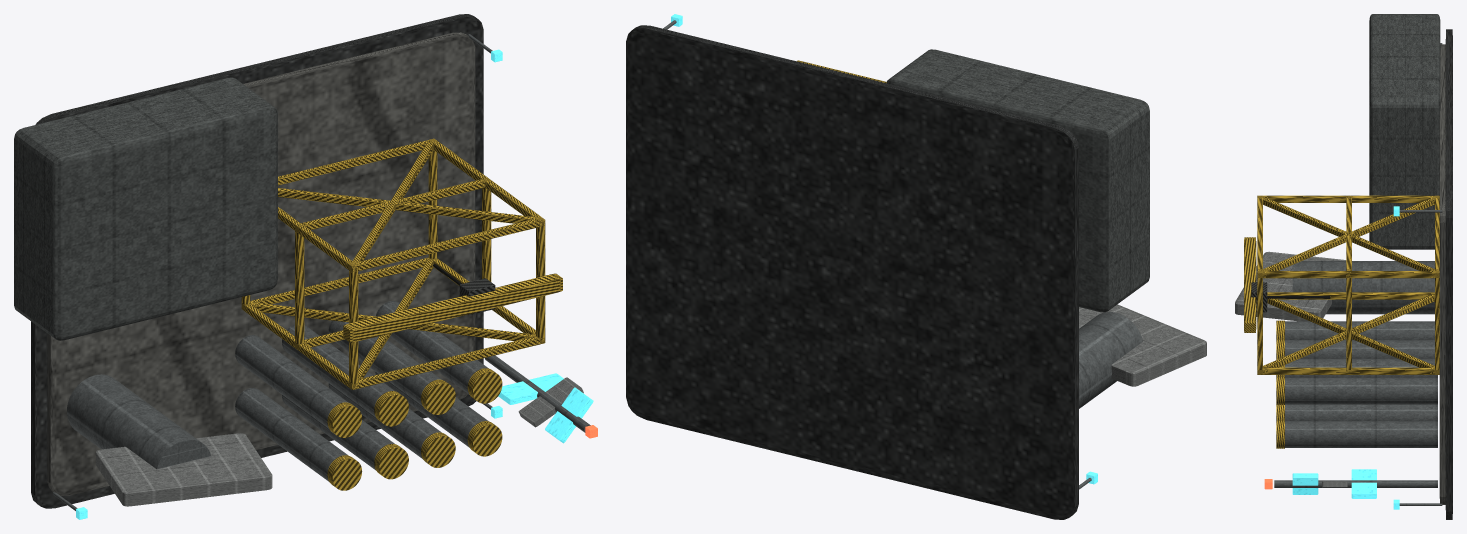
Rendered from b-32-missile-battery-lod0.glb.
The picture shows the model from 3 angles, left to right: view 1: azimuth 30°, elevation 25°; view 2: azimuth 150°, elevation 25°; view 3: azimuth 270°, elevation 25°; orthographic projection. The views are drawn at different scales.
Visible parts, largest first — view 1: foundation_inner_pad, bunker_main, foundation, primary_tracking_radar, radar_pedestal, reload_crane_bridge, missile_01_tube, missile_05_tube, missile_08_tube, reload_crane_brace_a_1.5, missile_06_tube, missile_07_tube (+32 smaller); view 2: foundation, bunker_main, primary_tracking_radar, radar_pedestal; view 3: bunker_main, radar_pedestal, missile_08_tube, missile_04_tube, foundation, foundation_inner_pad, missile_03_tube, missile_05_tube, primary_tracking_radar, missile_06_tube, missile_07_tube, reload_crane_brace_a_-1.5 (+18 smaller).
Boxes of the visible parts, bbox=[...] form: foundation_inner_pad: bbox=[47, 32, 475, 495]; bunker_main: bbox=[14, 77, 277, 340]; foundation: bbox=[31, 14, 483, 508]; primary_tracking_radar: bbox=[96, 433, 272, 506]; radar_pedestal: bbox=[67, 374, 210, 469]; reload_crane_bridge: bbox=[343, 273, 562, 342]; missile_01_tube: bbox=[235, 388, 348, 481]; missile_05_tube: bbox=[235, 335, 348, 428]; missile_08_tube: bbox=[376, 301, 488, 394]; reload_crane_brace_a_1.5: bbox=[278, 188, 535, 223]; missile_06_tube: bbox=[282, 324, 394, 417]; missile_07_tube: bbox=[328, 312, 441, 405]; foundation: bbox=[626, 25, 1078, 519]; bunker_main: bbox=[886, 49, 1149, 312]; primary_tracking_radar: bbox=[1079, 304, 1206, 386]; radar_pedestal: bbox=[1079, 312, 1142, 408]; bunker_main: bbox=[1369, 14, 1440, 249]; radar_pedestal: bbox=[1292, 261, 1434, 314]; missile_08_tube: bbox=[1285, 377, 1437, 404]; missile_04_tube: bbox=[1285, 421, 1437, 447]; foundation: bbox=[1445, 29, 1452, 519]; foundation_inner_pad: bbox=[1439, 44, 1445, 504]; missile_03_tube: bbox=[1285, 404, 1437, 420]; missile_05_tube: bbox=[1285, 321, 1434, 339]; primary_tracking_radar: bbox=[1235, 251, 1346, 321]; missile_06_tube: bbox=[1285, 340, 1434, 358]; missile_07_tube: bbox=[1285, 358, 1437, 377]; reload_crane_brace_a_-1.5: bbox=[1263, 294, 1434, 367].
Size of what is drawn, in the model's own units: 13.53 by 10.05 by 6.12.
10 materials, 10 textured.
